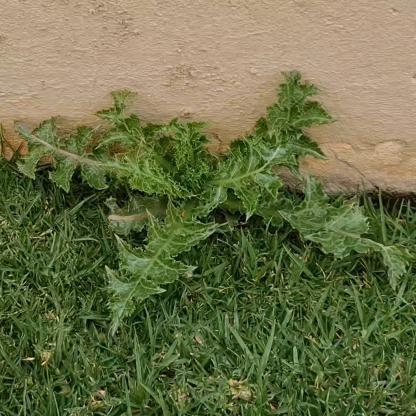Weeds: (14, 69, 415, 330)
